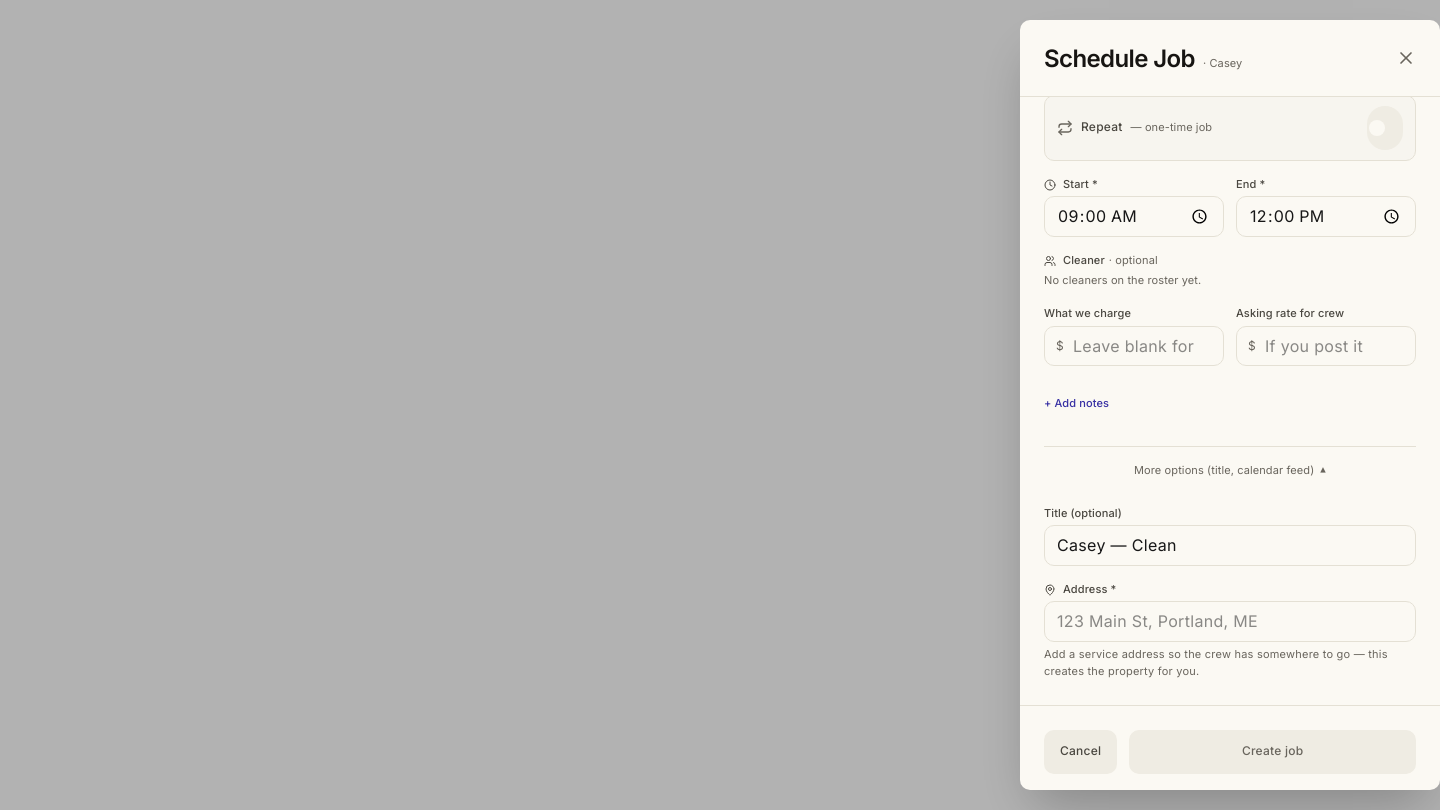
Test: Booking a quote with no place for the work to live › enables Save once a service address is typed — no backend round-trip to fail
(page scrolled)
expect the text "somewhere to go" is shown: met, box [1044,647,1388,678]
Step 1. Type "9 Dockside Ln, Portland, ME" into the field with placeholder "123 Main St, Portland, ME" → (1230, 621), box [1044,601,1416,642]
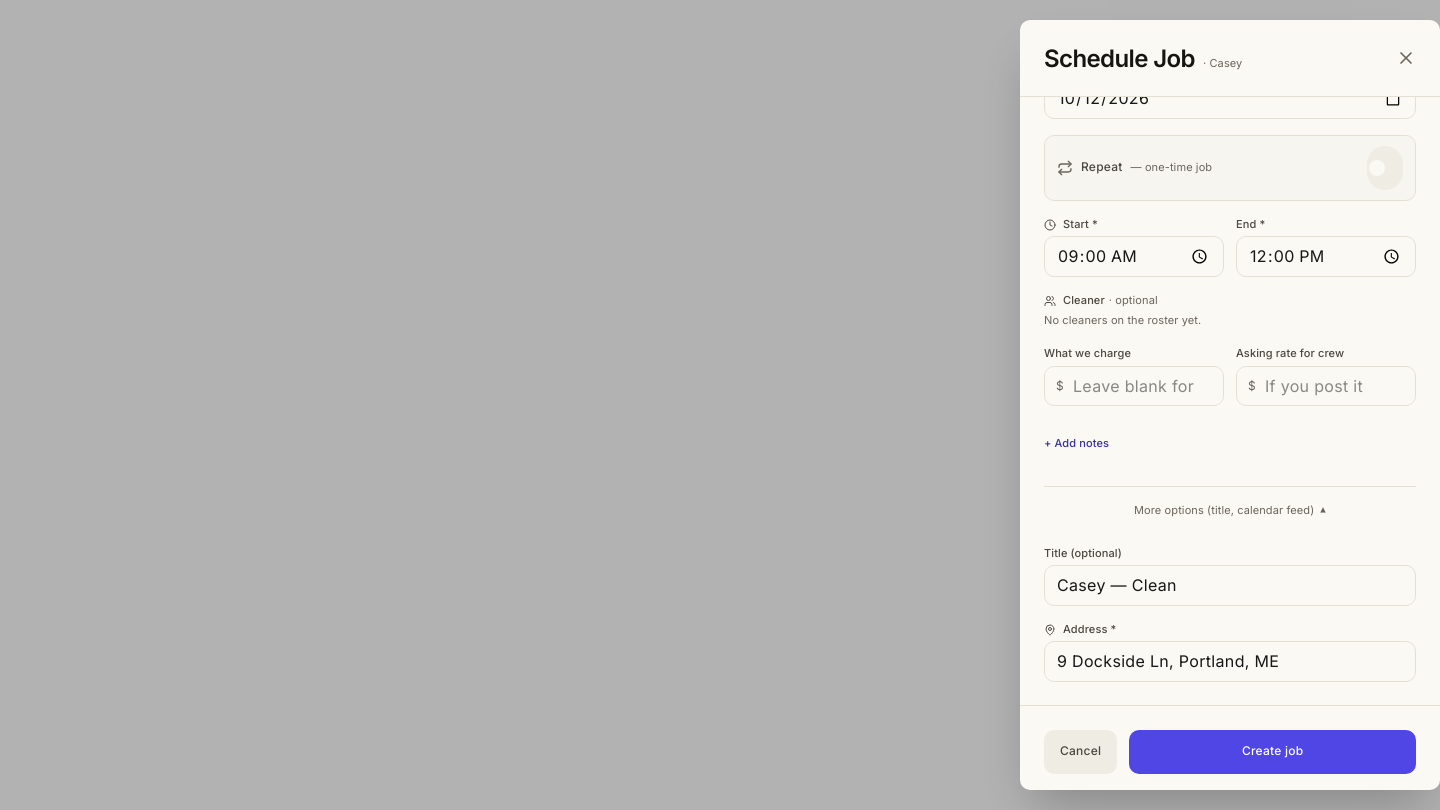
expect the button with test id "job-create-submit" is enabled: met, box [1129,730,1416,774]
